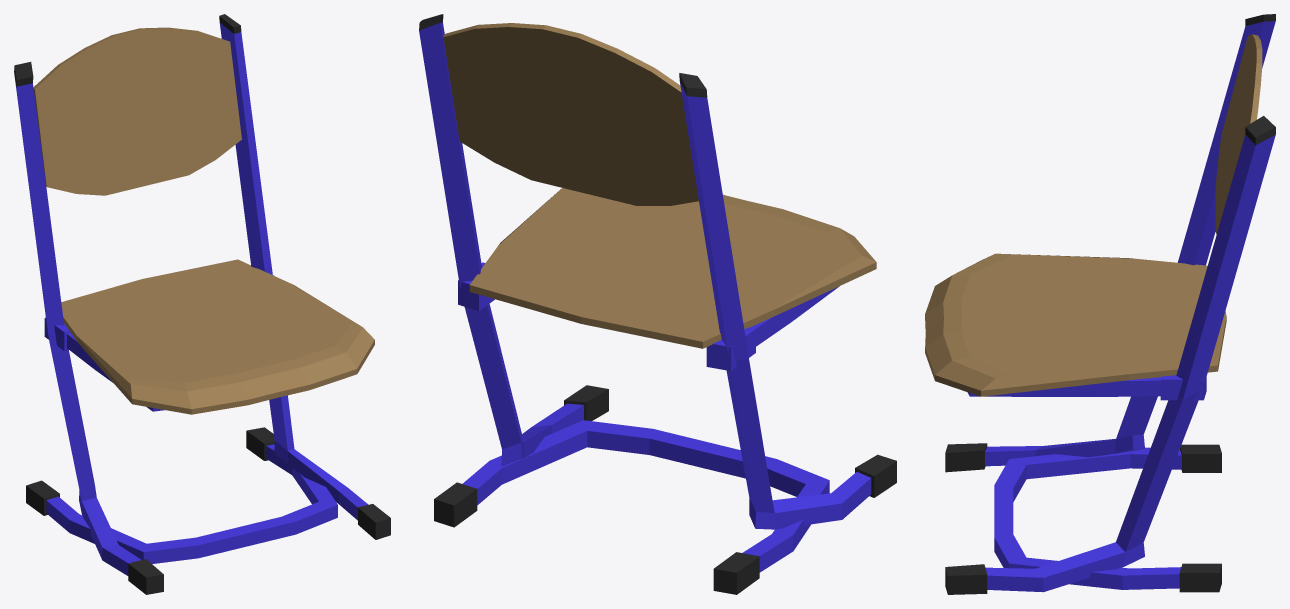
Rendered from stolicka_1.fbx.
3 renders of one model, left to right at view 1: azimuth 30°, elevation 25°; view 2: azimuth 150°, elevation 25°; view 3: azimuth 270°, elevation 25°, orthographic. The views are drawn at different scales.
Visible parts, largest first — view 1: stolicka_lavica; view 2: stolicka_lavica; view 3: stolicka_lavica.
Boxes of the visible parts, <box> form: stolicka_lavica: <box>14,14,390,594</box>; stolicka_lavica: <box>419,14,896,594</box>; stolicka_lavica: <box>925,14,1275,594</box>.
Bounding box in the file's own units: 82.28 × 138 × 92.44.
